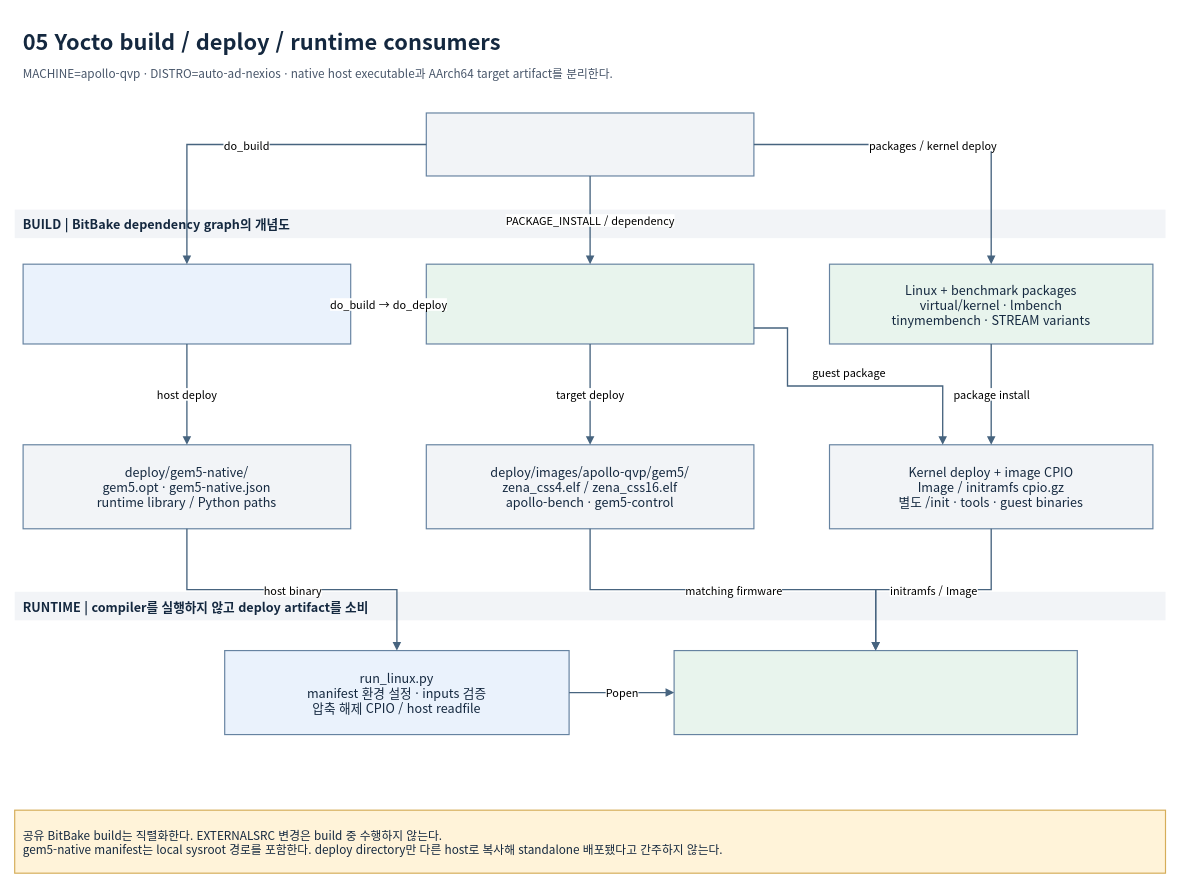
Image size: 1181x888. Some labels were removed from this diagram. The centre of each missing label's shape, as x and y in pixels:
gem5-apollo-guest externalsrc · target CC/LD firmware + benchmark + control: the point at 589,303
gem5-native inherit native + externalsrc SCons: ARM / CHI: the point at 186,303
gem5.opt + run_fs.py PSCI firmware · kernel · generated DTB initramfs → workload: the point at 875,692
yocto_build.sh --gem5 nexios-gem5-initramfs: the point at 589,144
